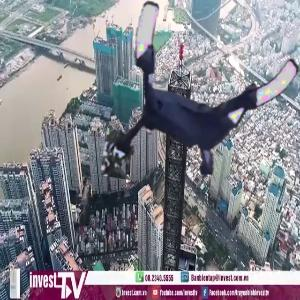drone: (113, 10, 296, 193)
